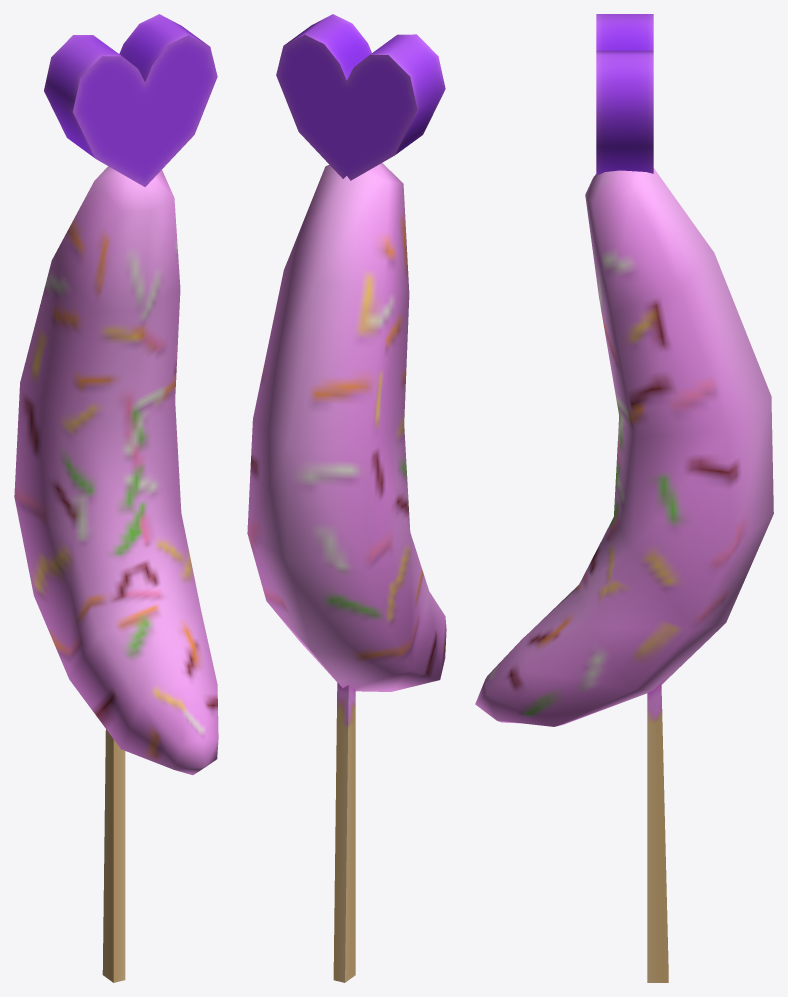
File: jsf_ChocolateBanana_a05_c02.fbx
The picture shows the model from 3 angles, left to right: view 1: azimuth 30°, elevation 25°; view 2: azimuth 150°, elevation 25°; view 3: azimuth 270°, elevation 25°; orthographic projection. The views are drawn at different scales.
Parts seen in each view (by area): view 1: jsf_ChocolateBanana_a05_c02; view 2: jsf_ChocolateBanana_a05_c02; view 3: jsf_ChocolateBanana_a05_c02.
Boxes of the visible parts, bbox=[...] form: jsf_ChocolateBanana_a05_c02: bbox=[14, 14, 218, 982]; jsf_ChocolateBanana_a05_c02: bbox=[247, 14, 446, 982]; jsf_ChocolateBanana_a05_c02: bbox=[475, 14, 773, 982].
Bounding box in the file's own units: 4.34 × 27.32 × 7.83.
